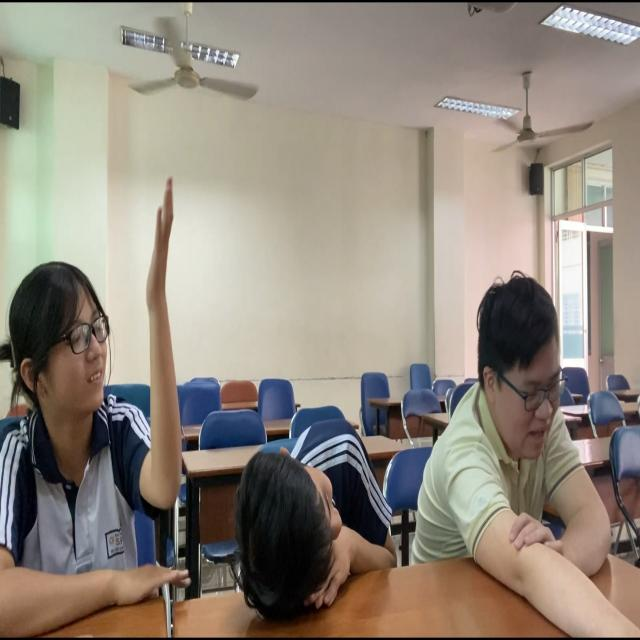raise_hand: (1, 169, 191, 640)
sleep: (216, 394, 405, 639)
